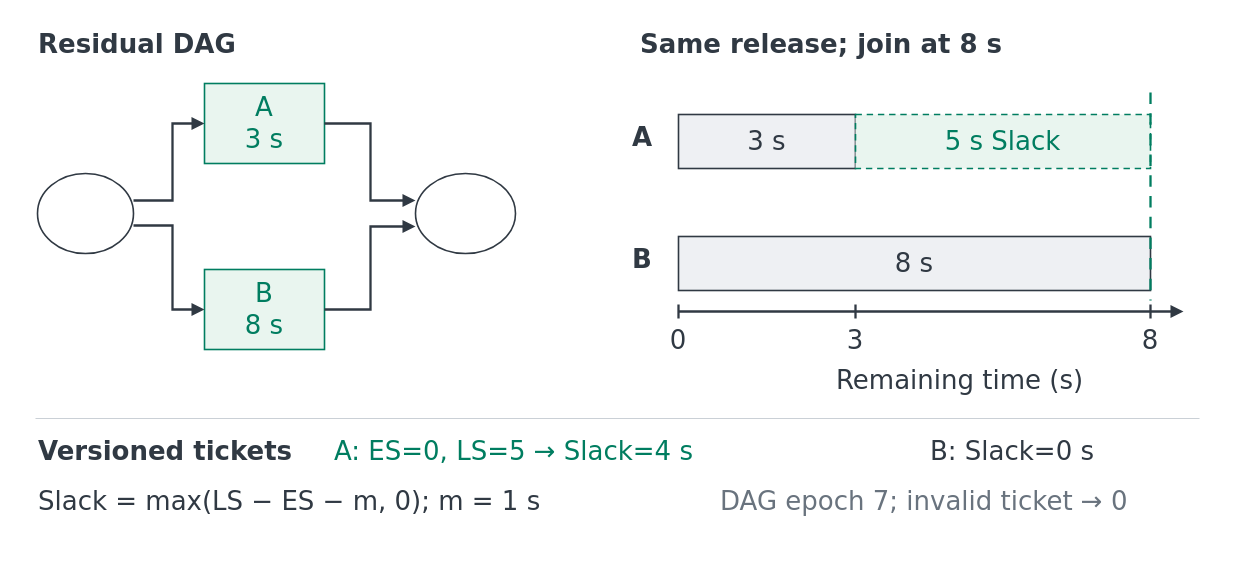
This 1236x566 diagram has some shape labels left out. The shapes that lost their labels are listed below. From the top down, each one's centre as x and y in pixels, then its label:
At pixel 85 213: "Fork".
At pixel 465 213: "Join".
